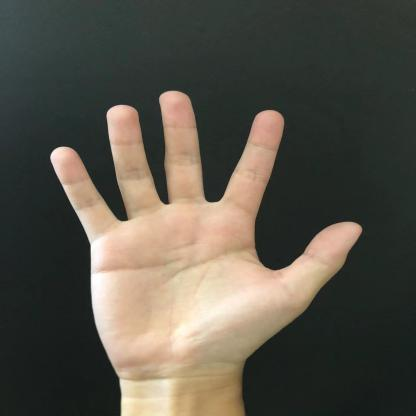palm: (34, 65, 370, 384)
